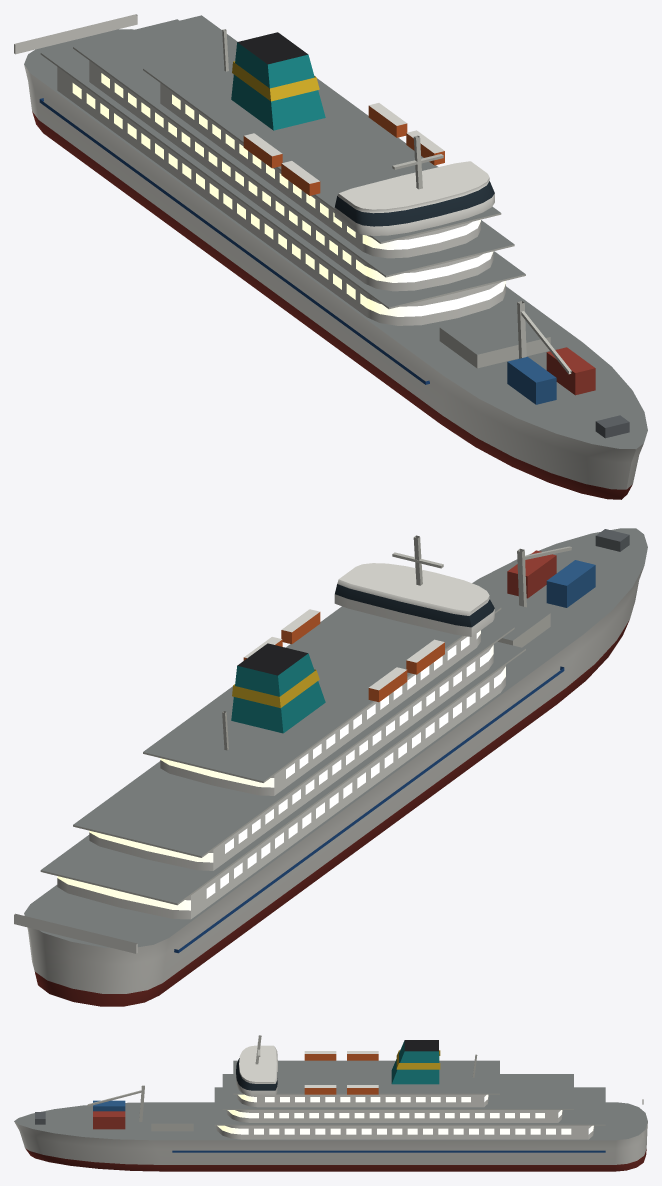
File: tokyo_ferry.glb
The picture shows the model from 3 angles, top to bottom: view 1: azimuth 30°, elevation 25°; view 2: azimuth 150°, elevation 25°; view 3: azimuth 270°, elevation 25°; orthographic projection. The views are drawn at different scales.
Parts seen in each view (by area): view 1: tokyo_ferry; view 2: tokyo_ferry; view 3: tokyo_ferry.
Part boxes in pixels (box(x1,y1,x2,y2)): tokyo_ferry: box(14, 14, 647, 499); tokyo_ferry: box(14, 528, 647, 1006); tokyo_ferry: box(14, 1035, 647, 1171).
Size of the model in its own units: 17.04 by 25.03 by 120.
Materials: 1 (1 with a texture image).
